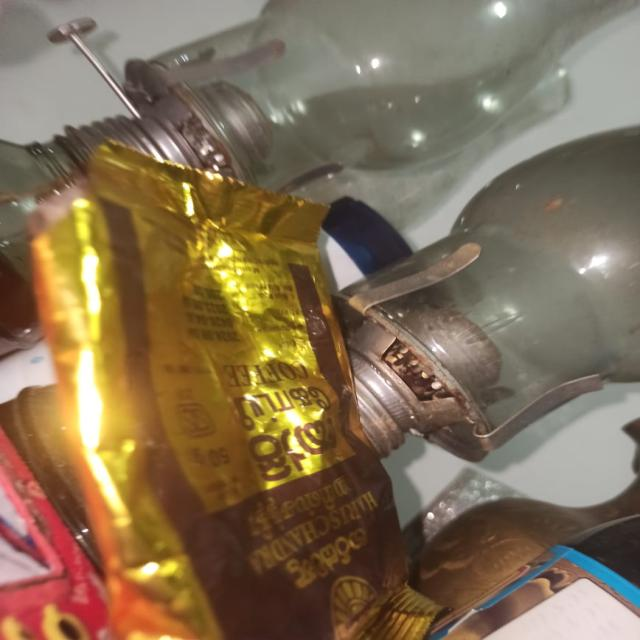Harischandra Coffee: (0, 160, 549, 640)
